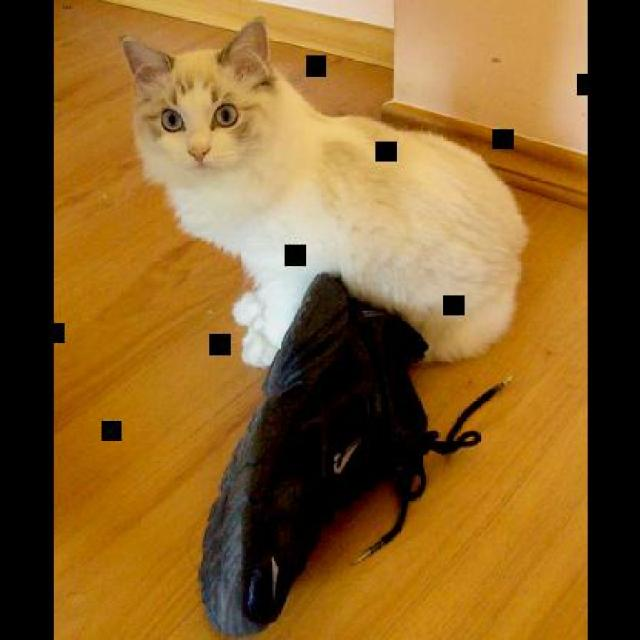unauthorized: (118, 14, 530, 369)
